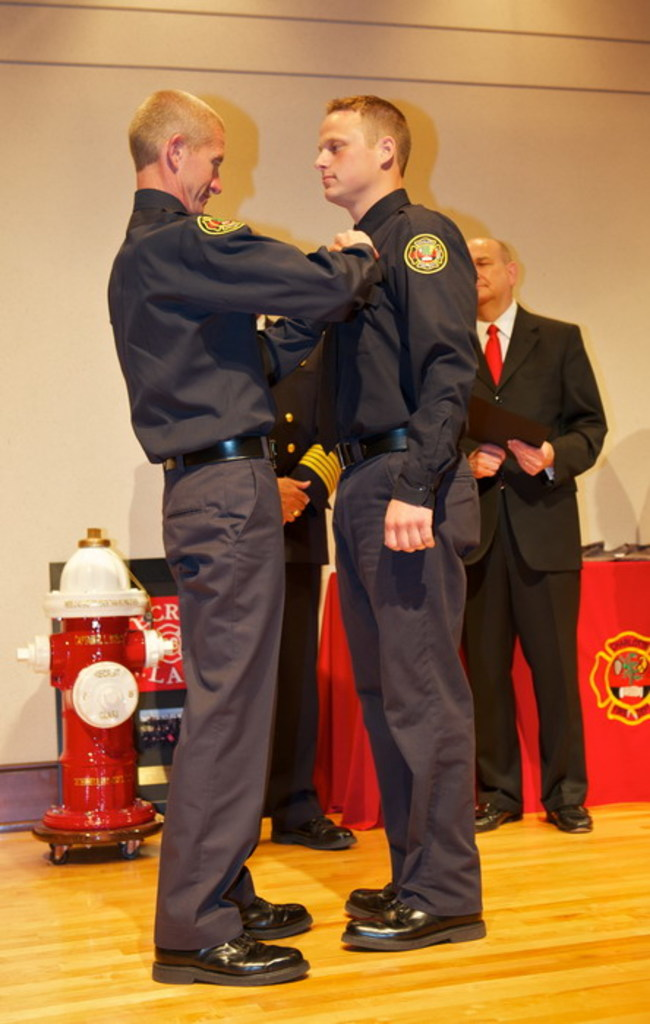Person: (268, 322, 352, 849)
